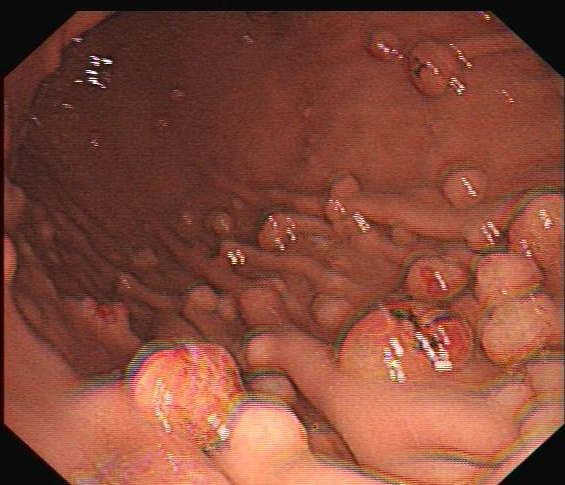Polyp: (475, 294, 559, 363), (402, 251, 476, 308), (477, 249, 546, 303)
